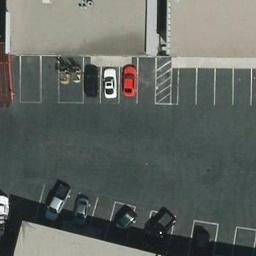car: (145, 203, 173, 254), (43, 180, 68, 223), (68, 195, 93, 238), (109, 208, 134, 251), (121, 65, 137, 103), (83, 61, 99, 98), (102, 64, 118, 101)
